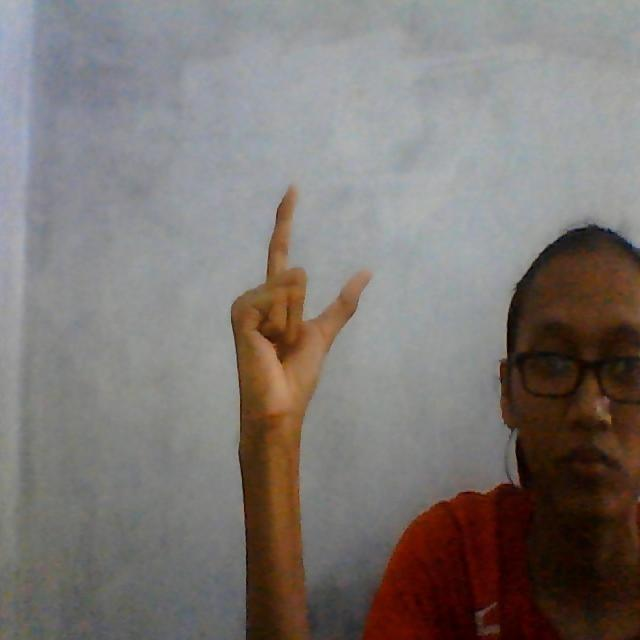U: (225, 179, 379, 374)
